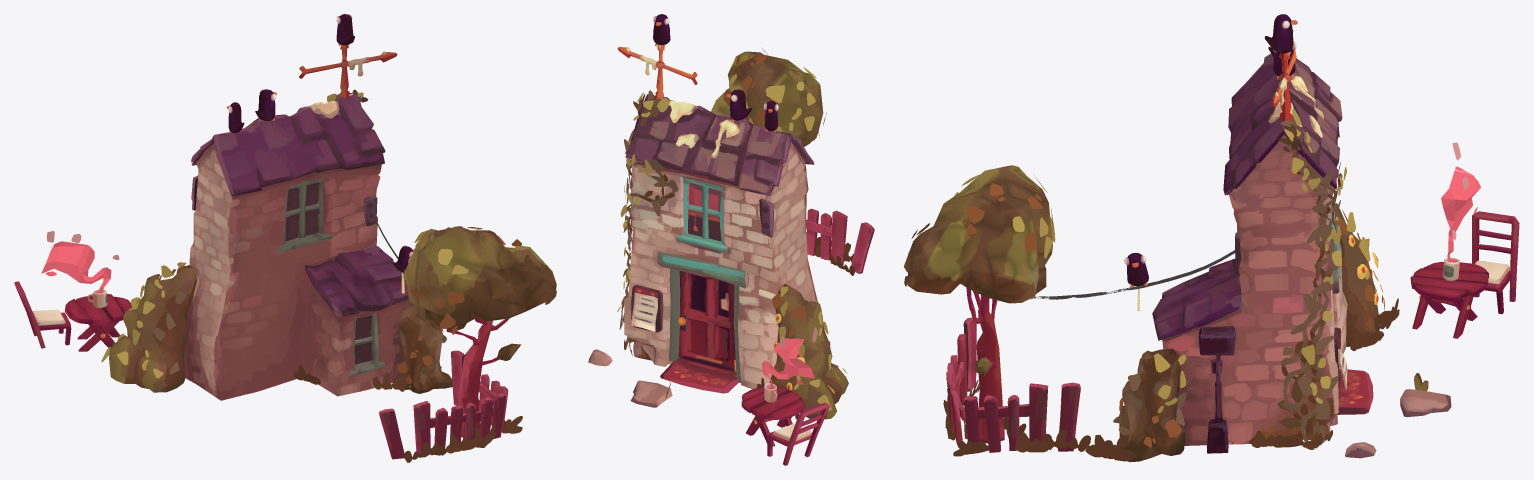
Rendered from Cottage.glb.
The picture shows the model from 3 angles, left to right: view 1: azimuth 30°, elevation 25°; view 2: azimuth 150°, elevation 25°; view 3: azimuth 270°, elevation 25°; orthographic projection. The views are drawn at different scales.
Visible parts, largest first — view 1: polySurface55; view 2: polySurface55; view 3: polySurface55.
Part boxes in pixels (<box>): polySurface55: <box>14,14,556,462</box>; polySurface55: <box>588,14,874,465</box>; polySurface55: <box>904,14,1519,462</box>.
Size of the model in its own units: 2.27 by 2.32 by 3.05.
Materials: 2 (2 with a texture image).
